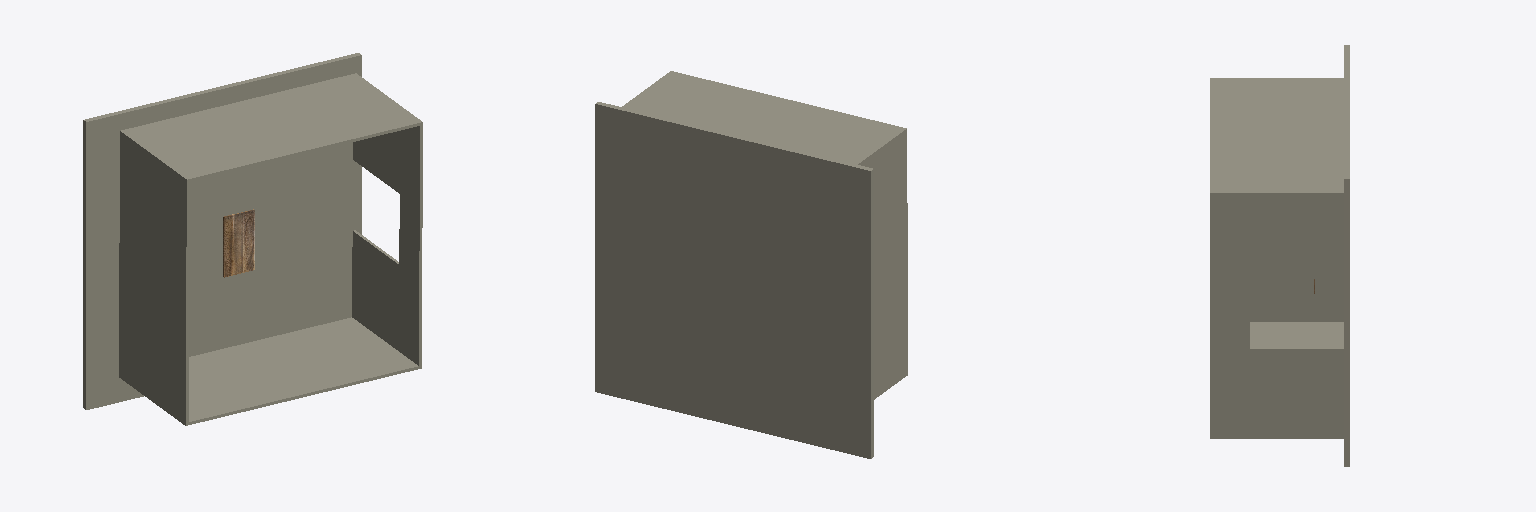
3 renders of one model, left to right at view 1: azimuth 30°, elevation 25°; view 2: azimuth 150°, elevation 25°; view 3: azimuth 270°, elevation 25°, orthographic.
Parts seen in each view (by area): view 1: Object_1, Cube, Object_0.001; view 2: Cube, Object_1; view 3: Object_1, Cube.
Part boxes in pixels (x1,y1,x2,y2): Object_1: (119, 73, 422, 425); Cube: (83, 53, 361, 409); Object_0.001: (223, 209, 254, 277); Cube: (595, 102, 873, 458); Object_1: (622, 71, 907, 399); Object_1: (1210, 78, 1343, 438); Cube: (1344, 45, 1349, 466).
Size of the model in its own units: 5 by 5 by 2.2.
2 materials, 1 textured.